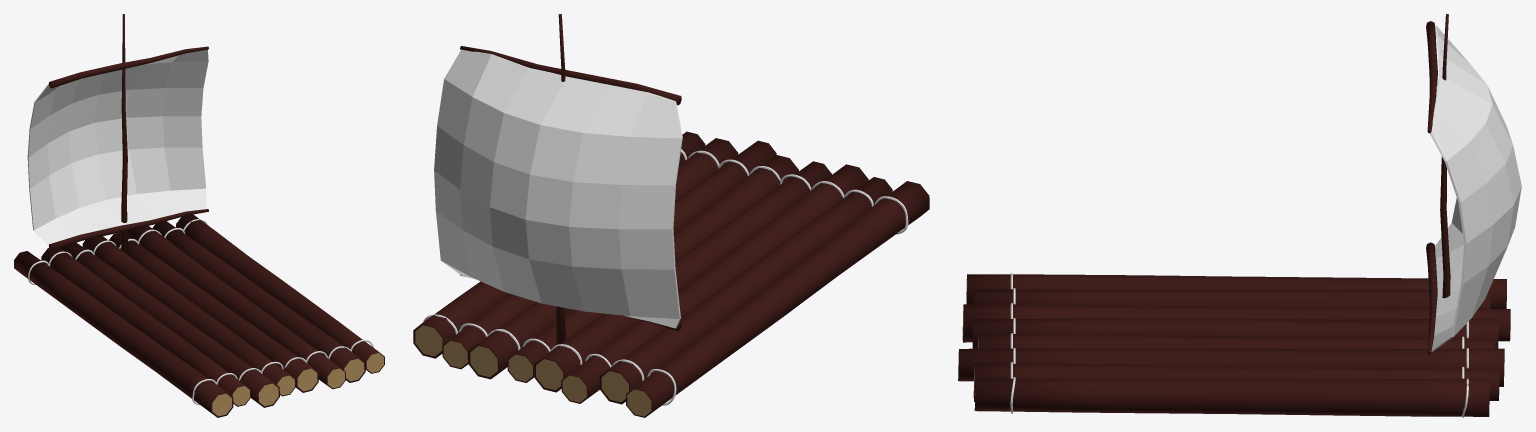
The model's file is SM_Raft_001.fbx.
3 views of the same model, side by side, from view 1: azimuth 30°, elevation 25°; view 2: azimuth 150°, elevation 25°; view 3: azimuth 270°, elevation 25° (orthographic). The views are drawn at different scales.
Parts seen in each view (by area): view 1: Raft; view 2: Raft; view 3: Raft.
Part boxes in pixels (x1,y1,x2,y2): Raft: (14, 14, 384, 417); Raft: (413, 14, 929, 417); Raft: (958, 14, 1521, 417).
Bounding box in the file's own units: 136 × 184 × 267.
